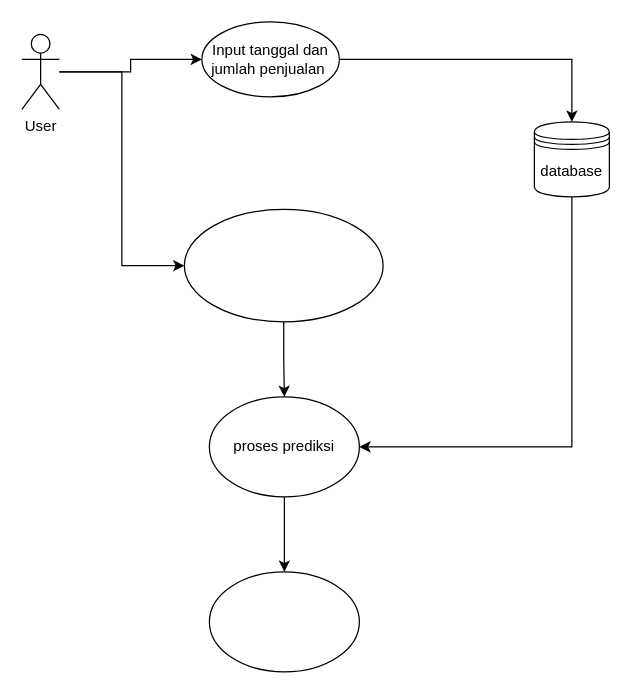
Image size: 631x694. Some labels were removed from this diagram. Each missing label, with the centre of its shape:
"hasil forecasting" belongs at point 283,621.
"memilih tanggal awal dan tanggal akhir prediksi jumlah penjuaalan" belongs at point 283,265.
